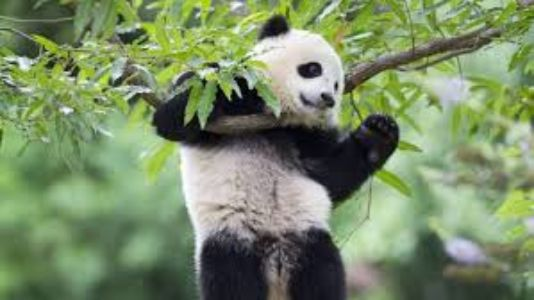bear: (169, 29, 396, 294)
